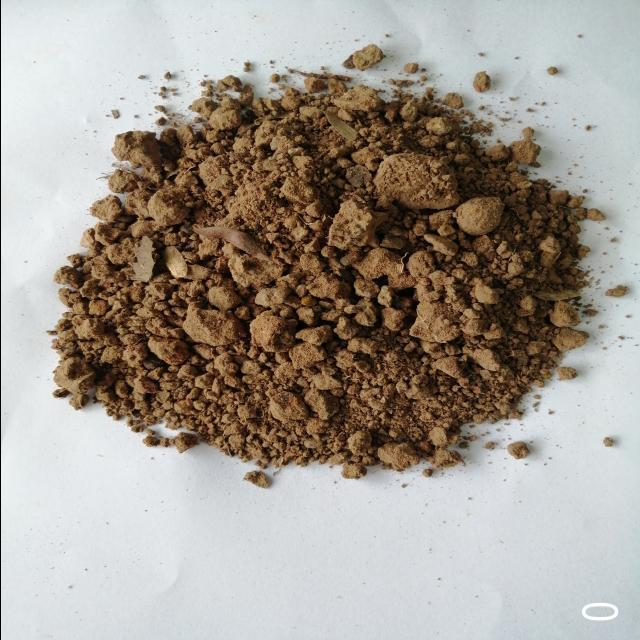soil: (147, 168, 525, 390)
